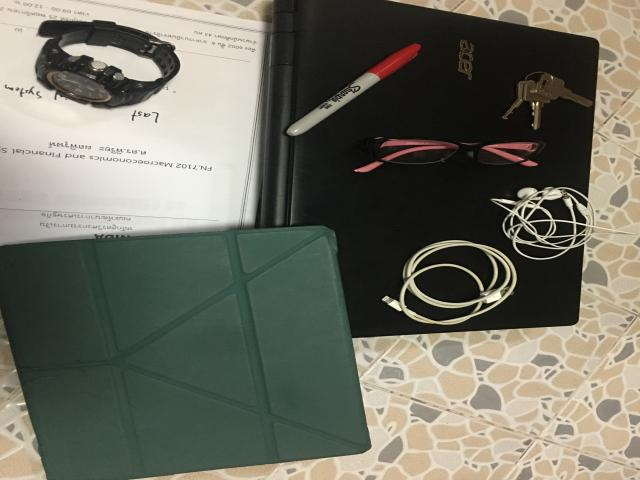Glasses: (355, 137, 545, 172)
Keys: (502, 72, 593, 129)
Pen: (287, 44, 420, 136)
Watch: (35, 20, 180, 107)
paper: (0, 0, 268, 245)
wire: (382, 240, 517, 325), (490, 187, 628, 260)
